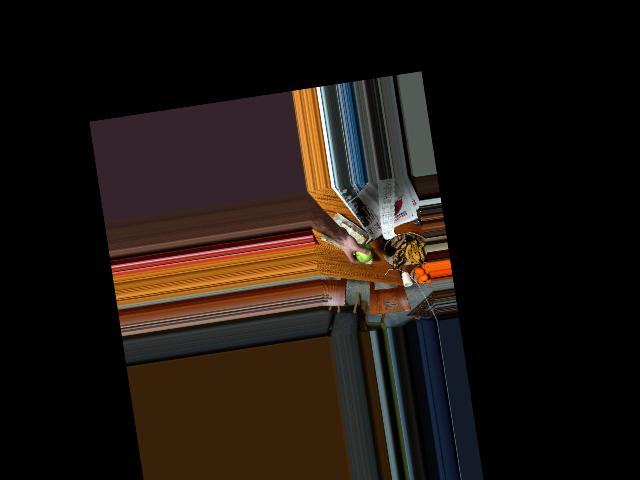apple: (352, 241, 375, 264)
